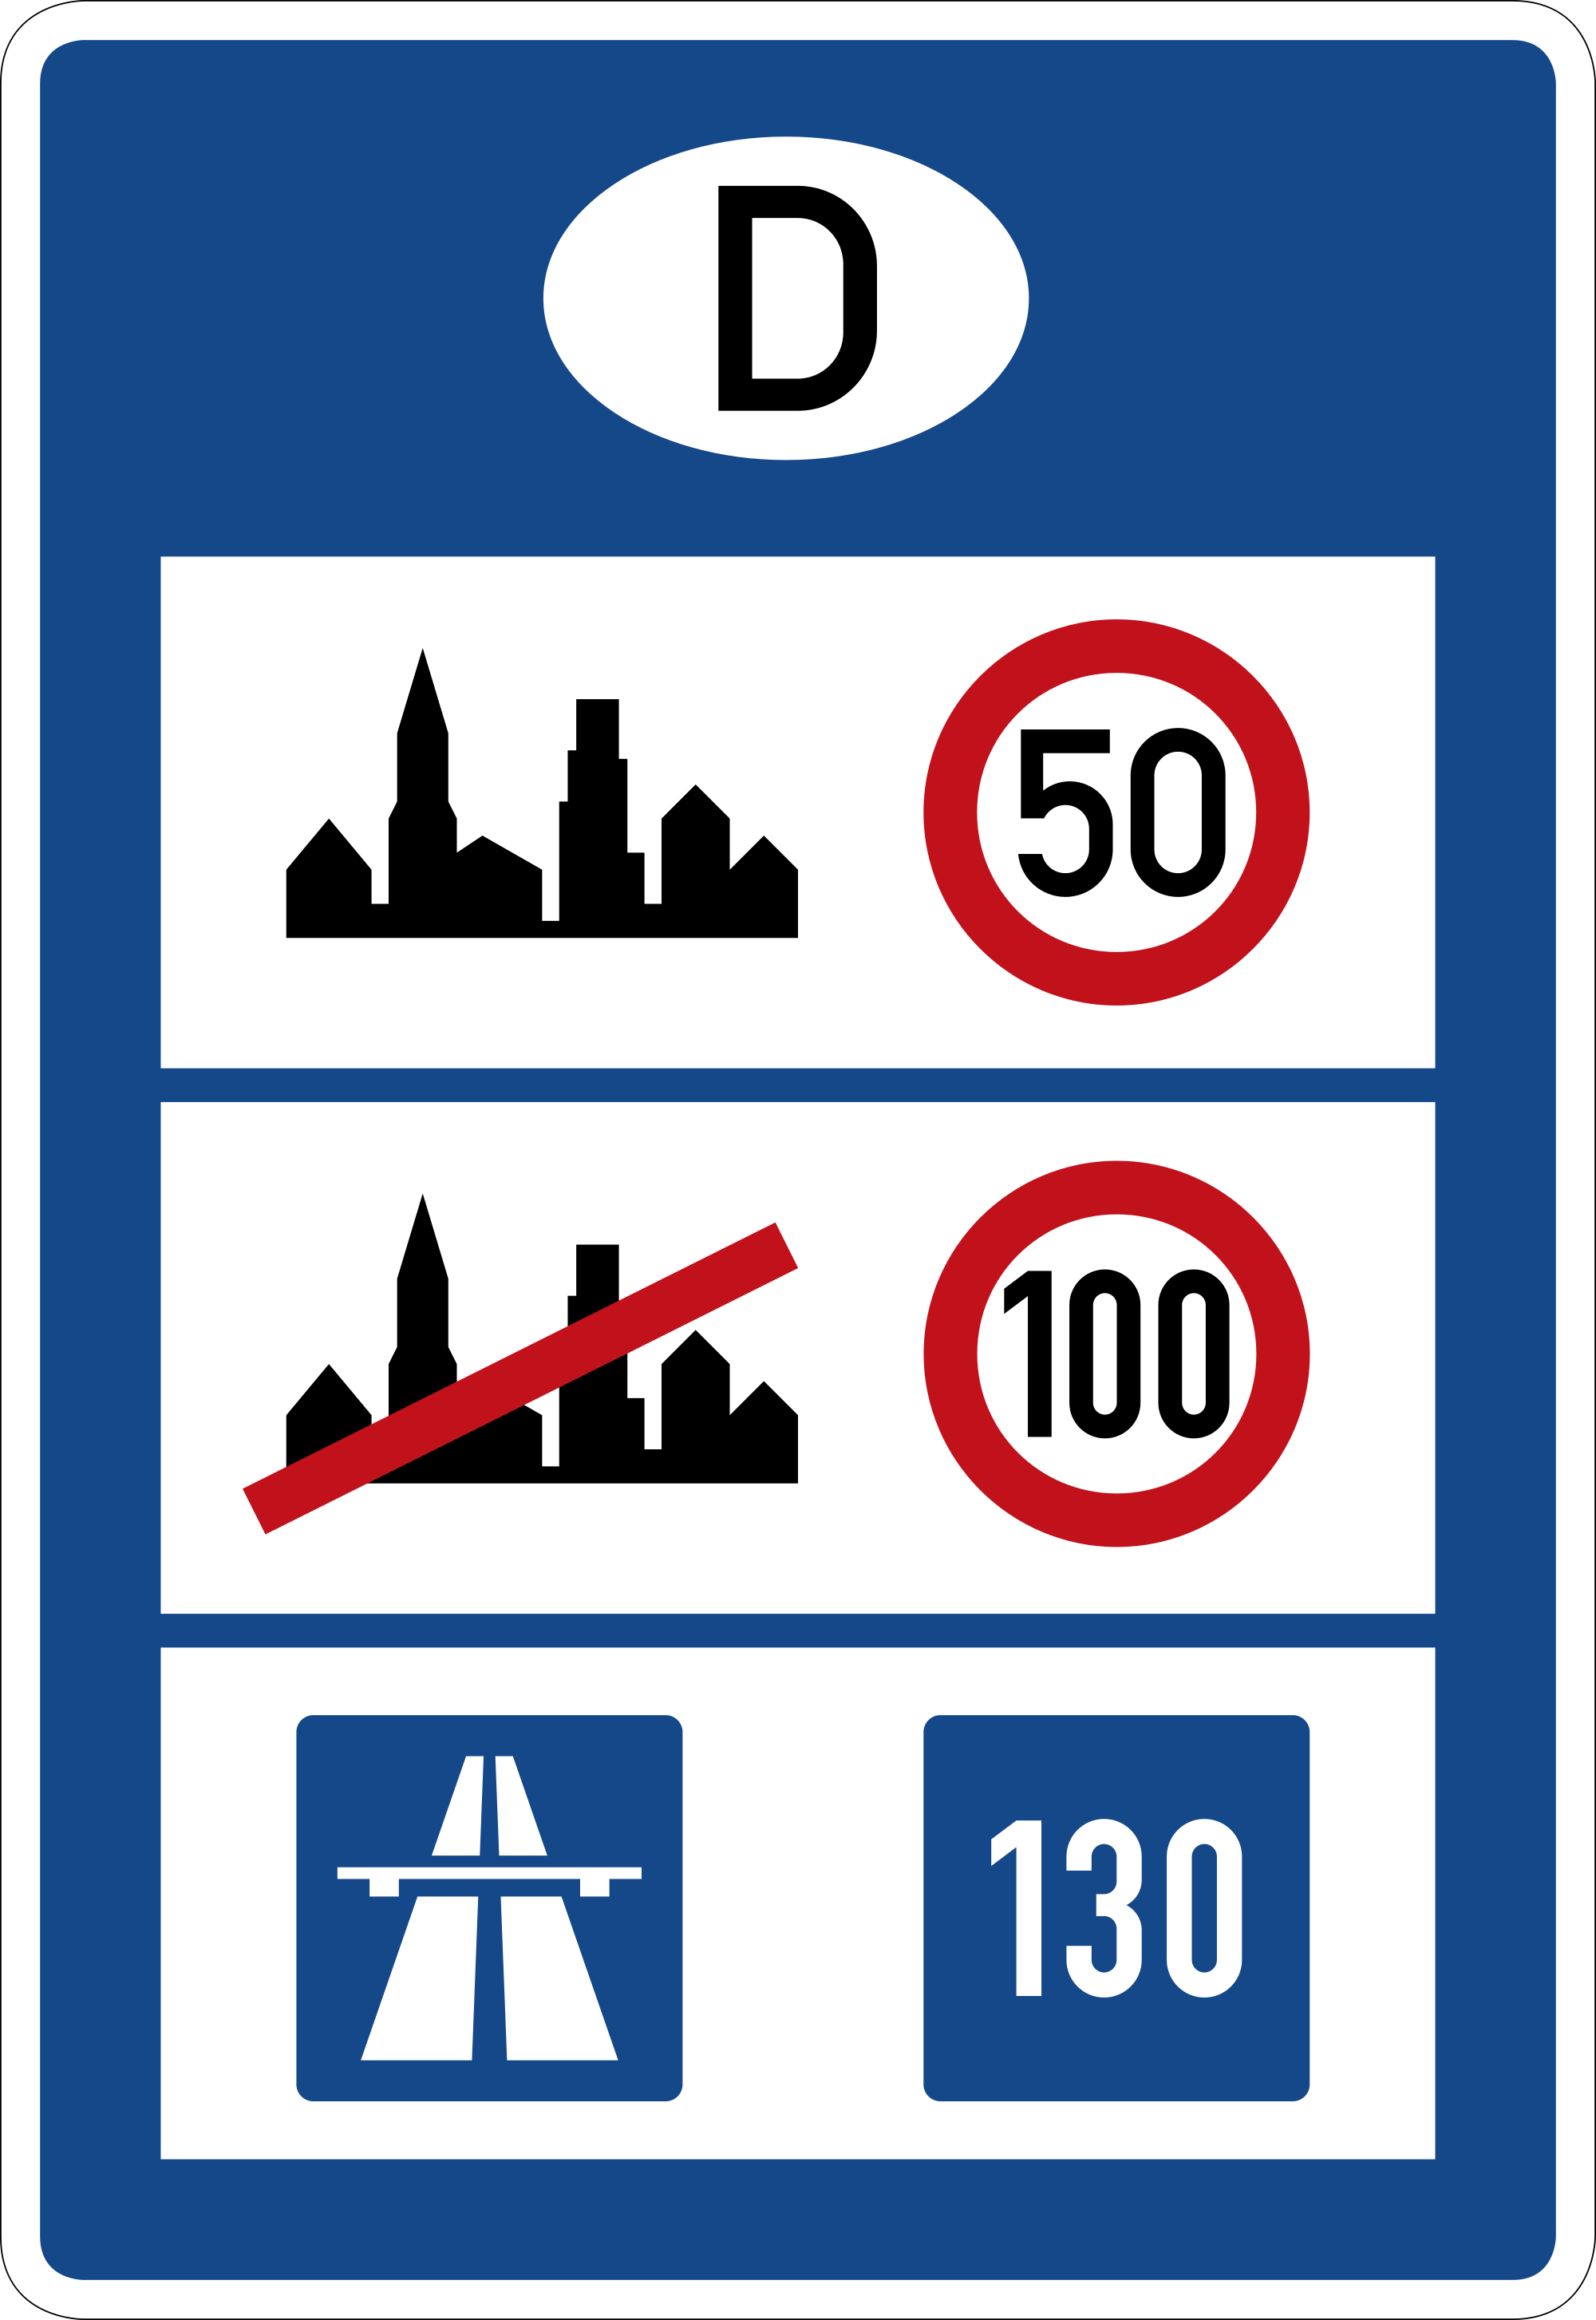Speed_limit_100km: (924, 1162, 1316, 1553)
Speed_limit_50km: (915, 617, 1316, 1003)
